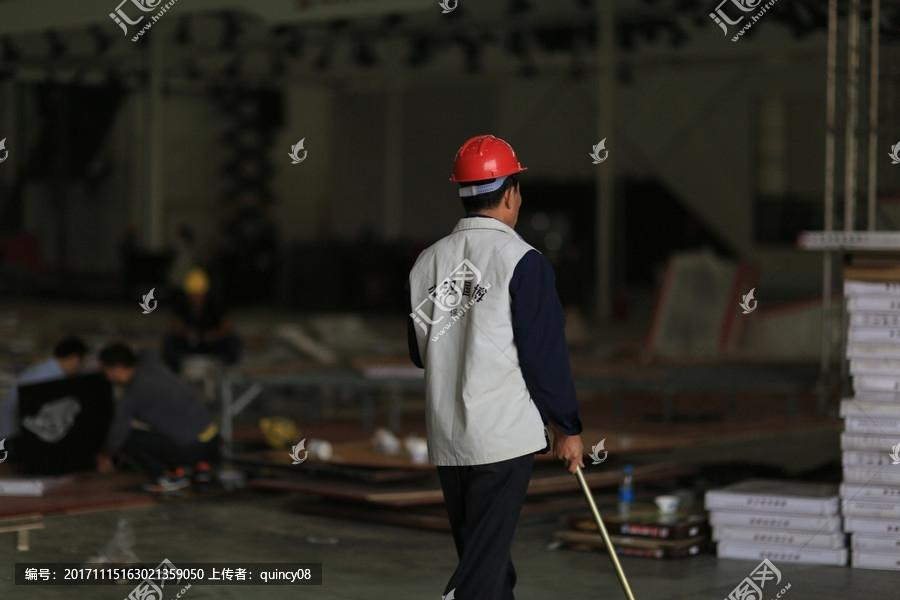helmet: (446, 133, 531, 192)
wear: (407, 245, 555, 453)
